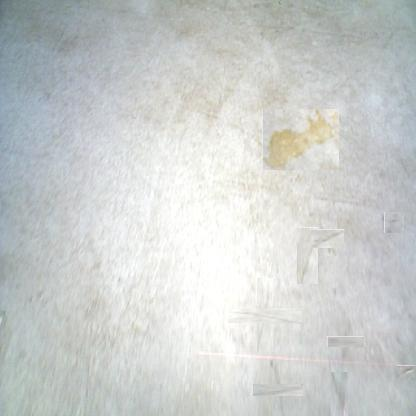liquid: (262, 108, 339, 170), (399, 364, 416, 380)
mark: (243, 293, 287, 337), (296, 227, 318, 284), (262, 375, 294, 406), (332, 372, 350, 416), (314, 226, 341, 252), (334, 330, 358, 353), (383, 213, 403, 232), (270, 358, 275, 370), (276, 1, 282, 5)
